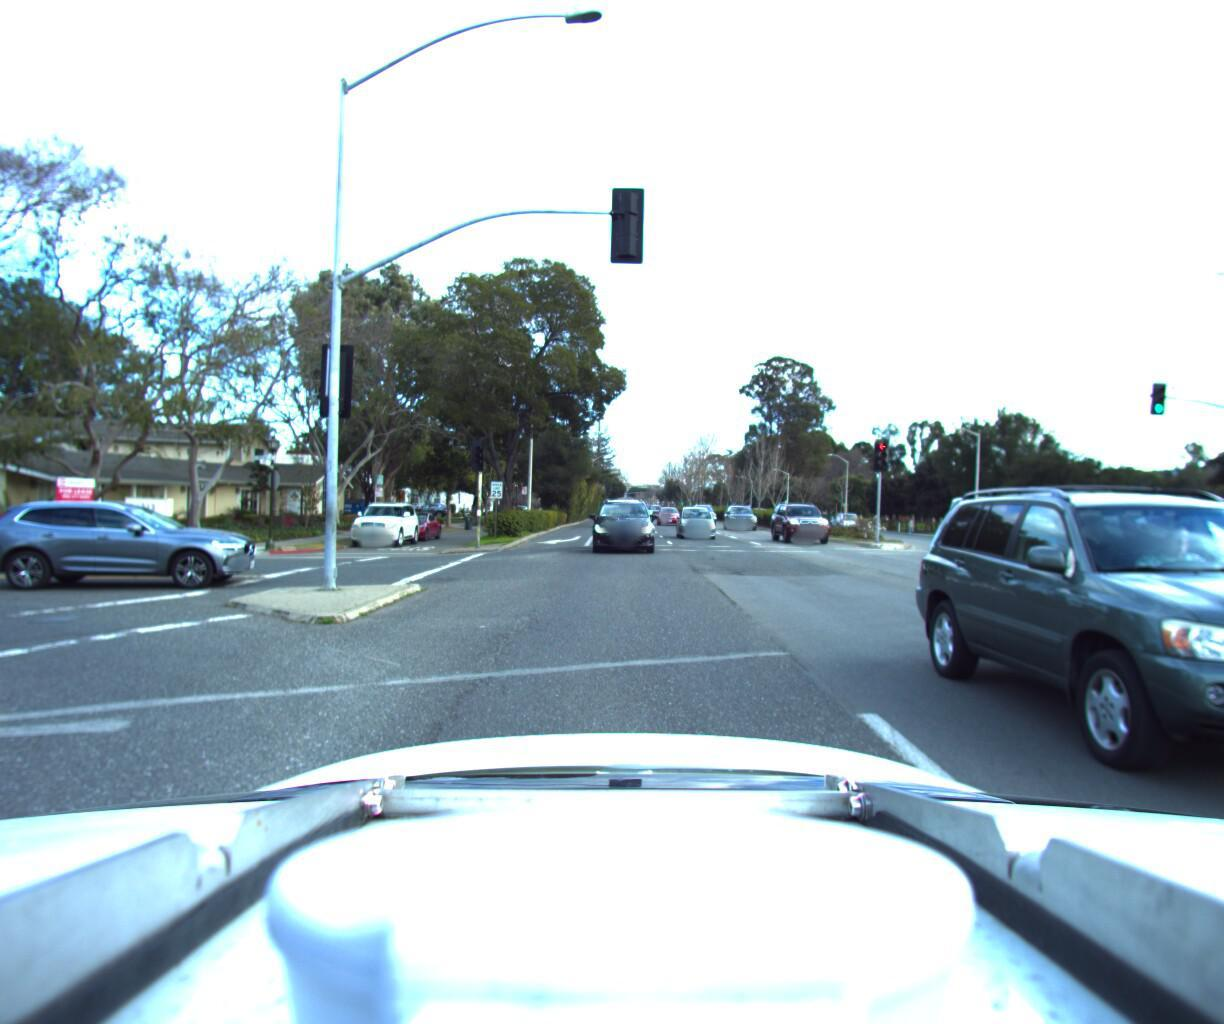car: (971, 457, 1224, 1013), (0, 493, 270, 592), (587, 490, 654, 552), (770, 489, 845, 542), (344, 494, 421, 543), (384, 503, 443, 537), (671, 496, 720, 534), (723, 500, 762, 528), (654, 496, 682, 521)
